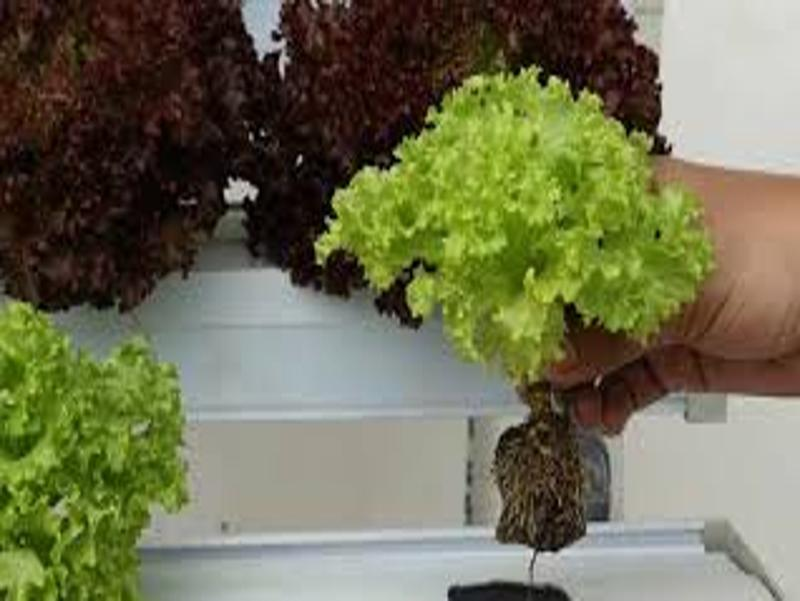green lettuce: (349, 70, 684, 379), (3, 304, 200, 600)
red lettuce: (1, 4, 248, 308), (260, 3, 670, 134)
